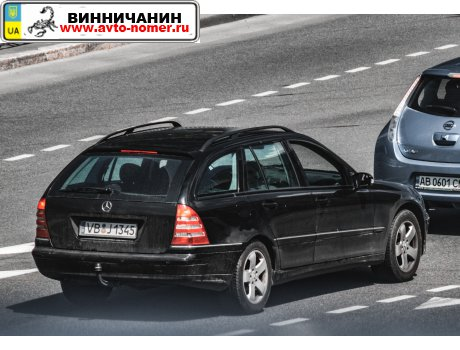License Plates: (78, 217, 135, 233)
